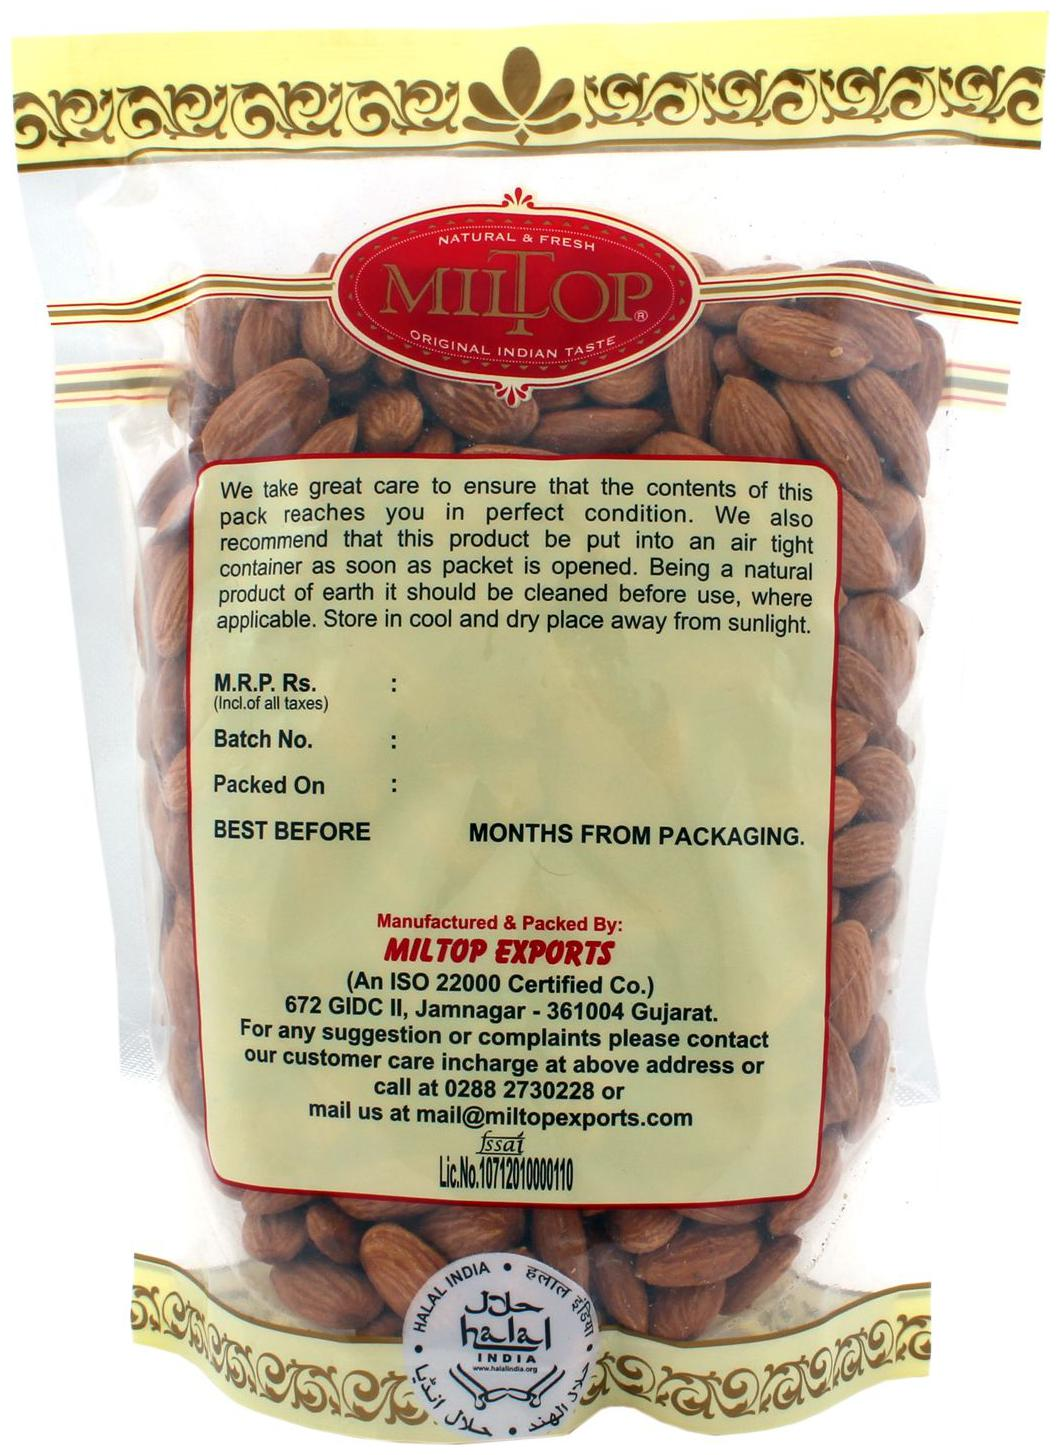fssai: (475, 1129, 525, 1155)
